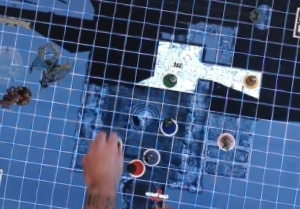blue: (157, 114, 183, 140)
green: (158, 70, 178, 88)
pink: (213, 129, 237, 152)
red: (125, 155, 147, 180)
violet: (142, 144, 164, 166)
yellow: (239, 71, 258, 89)
